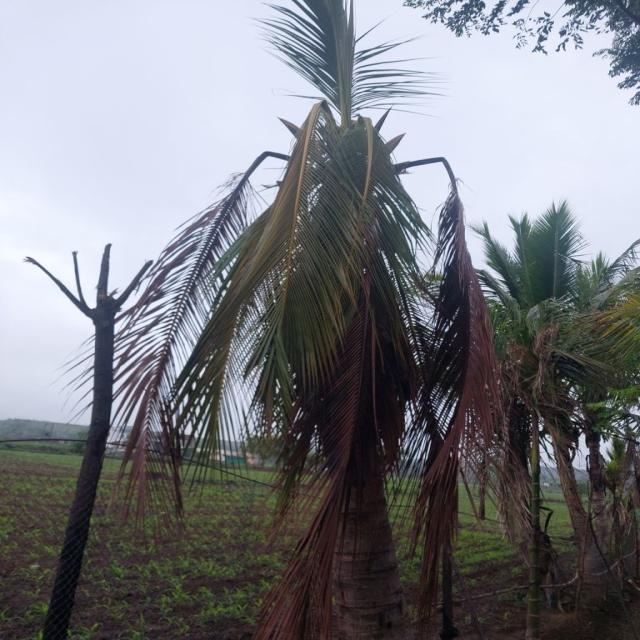bud root dropping: (117, 0, 495, 639)
